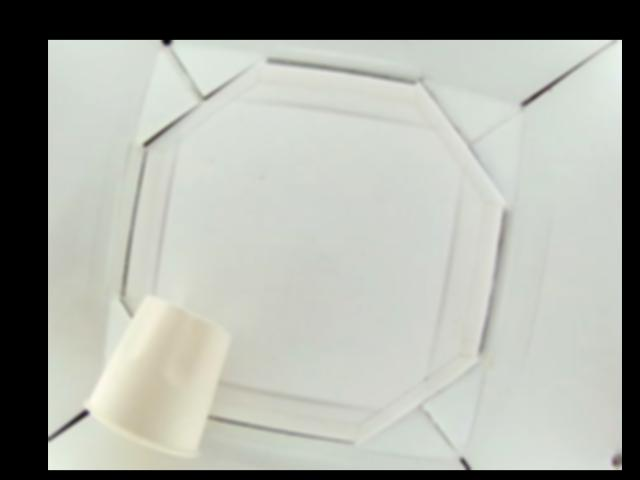Cup: (82, 294, 228, 454)
